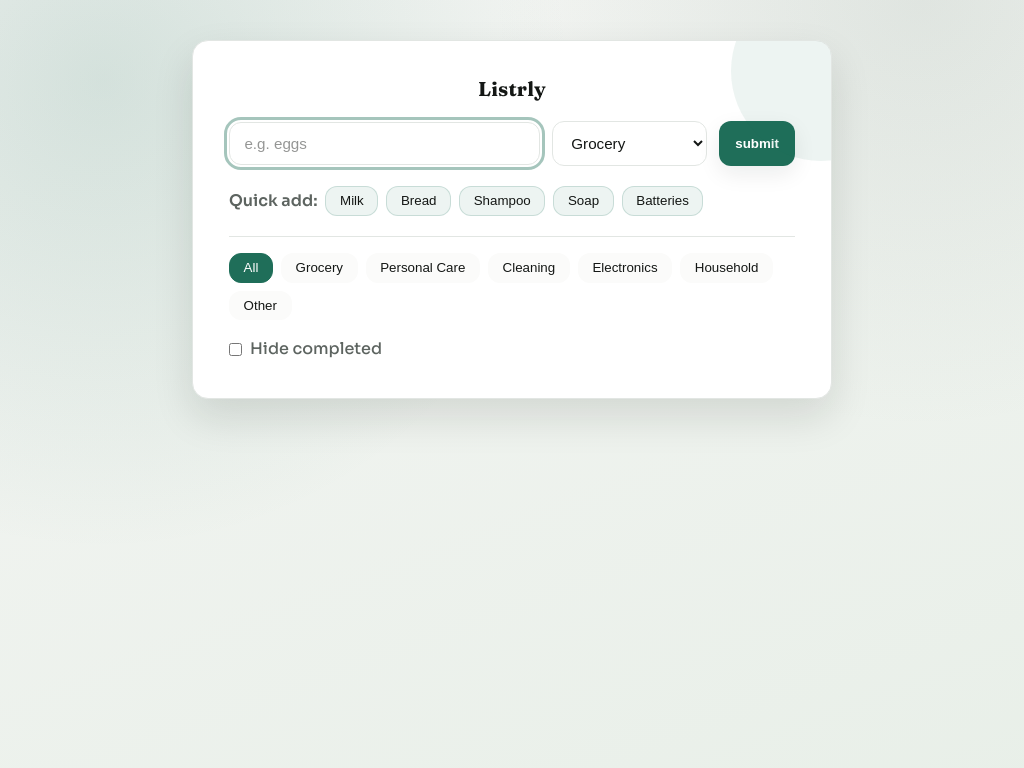
Test: FastList interactions › blocks duplicate items (case-insensitive)
This screenshot has width=1024, height=768.
Type "Milk" into the field with placeholder "e.g. eggs" at (384, 144), box [229,122,540,165]
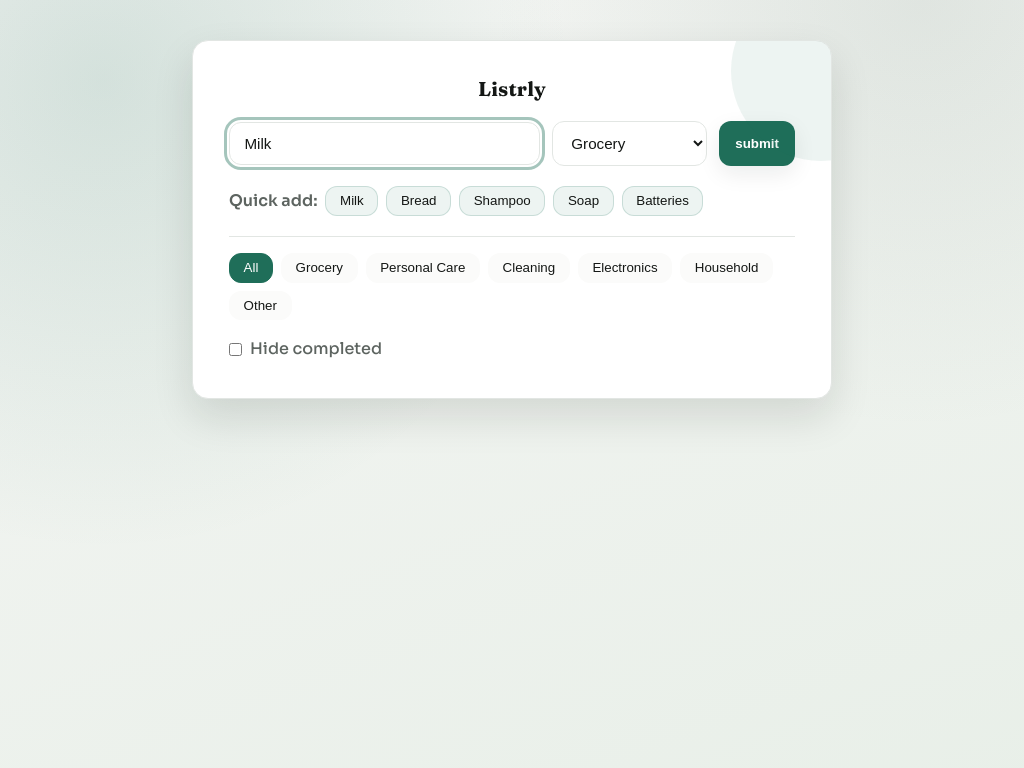
Select "Grocery" in the dropdown named "Item category" at (630, 144), box [552,121,707,166]
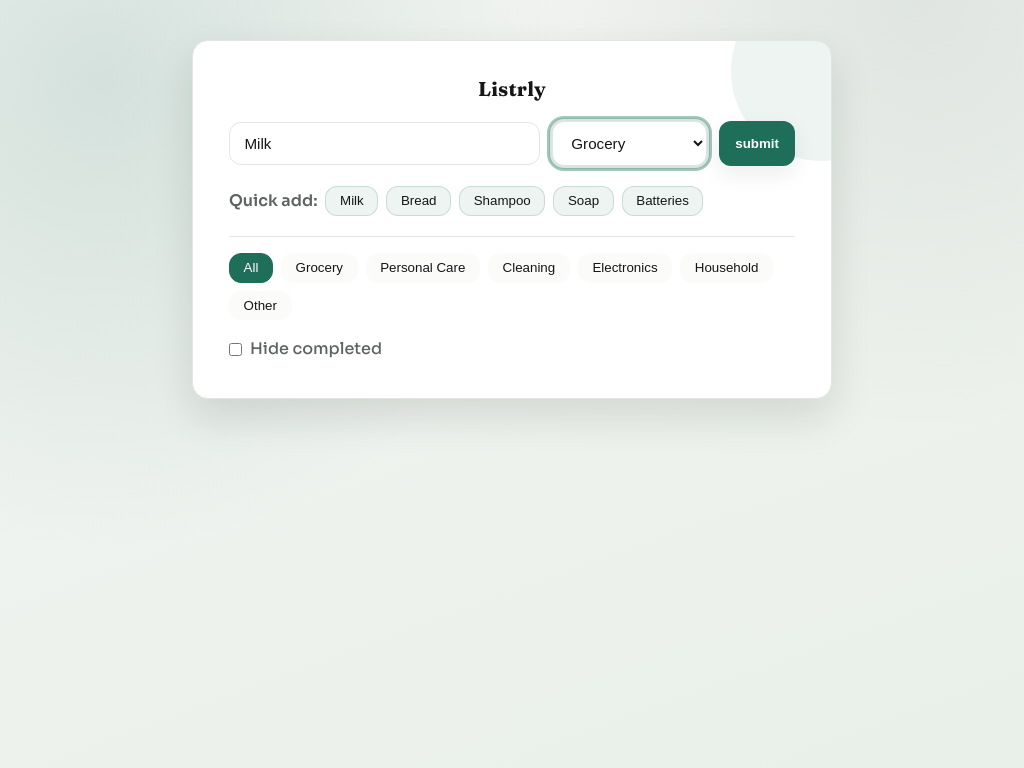
Click the button "submit" at (757, 144), box [719,121,795,166]
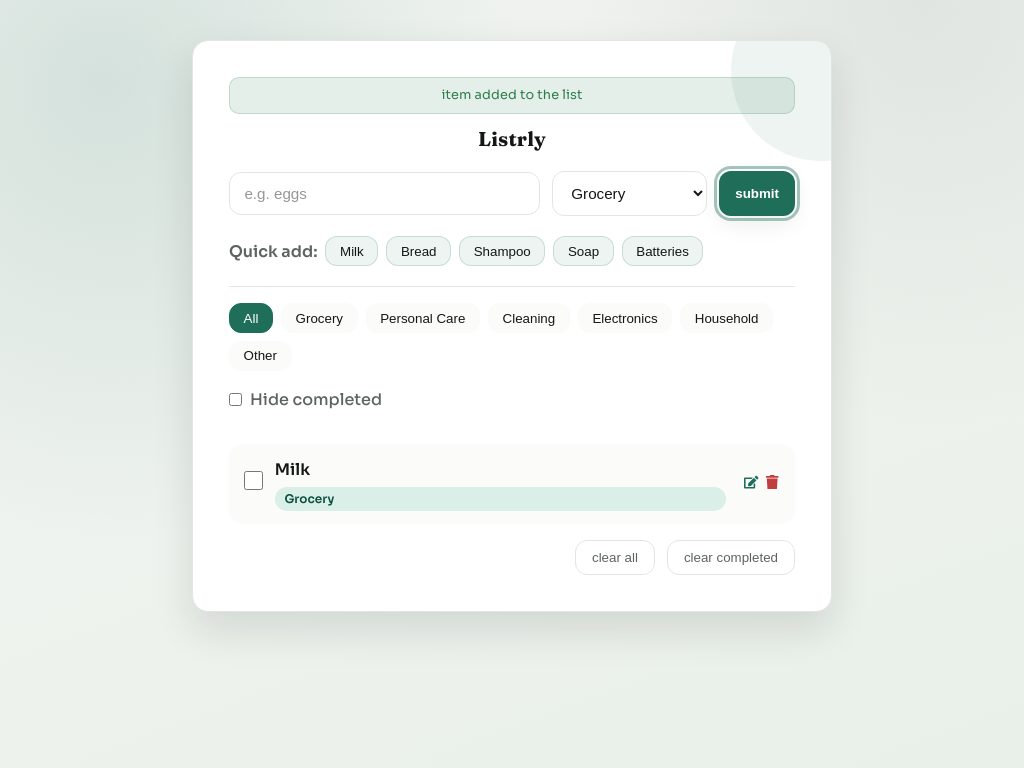
Type "milk" into the field with placeholder "e.g. eggs" at (384, 194), box [229,172,540,215]
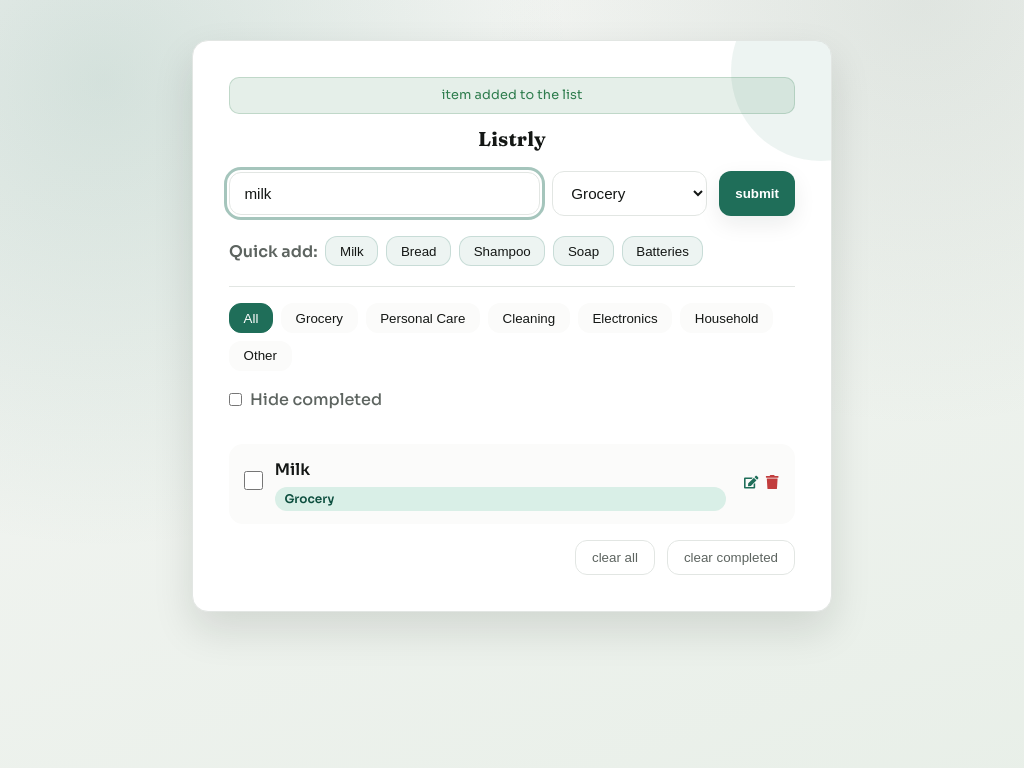
Select "Grocery" in the dropdown named "Item category" at (630, 194), box [552,171,707,216]
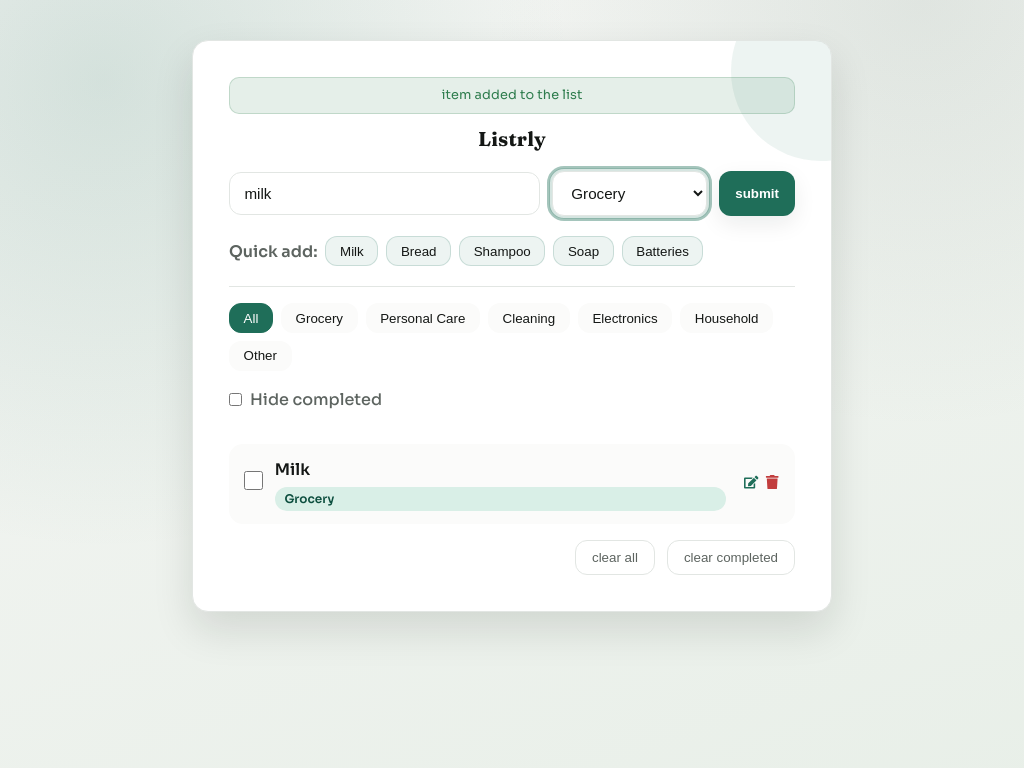
Click the button "submit" at (757, 194), box [719,171,795,216]
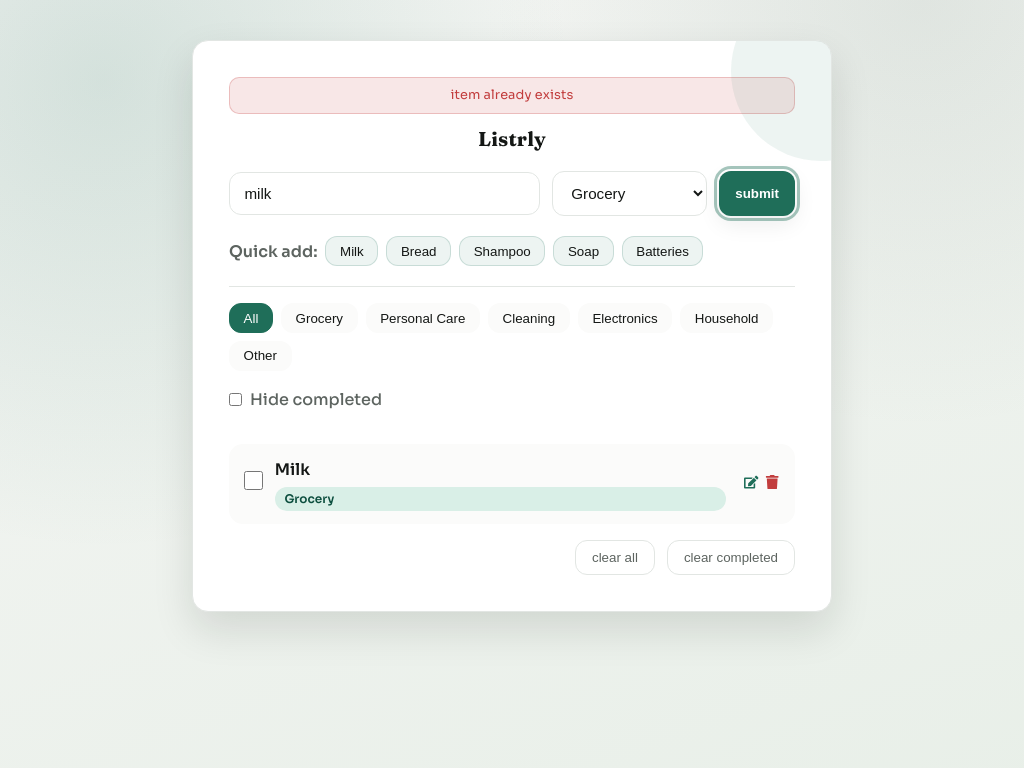
Result: the text "item already exists" is shown at [229,77,795,114]
